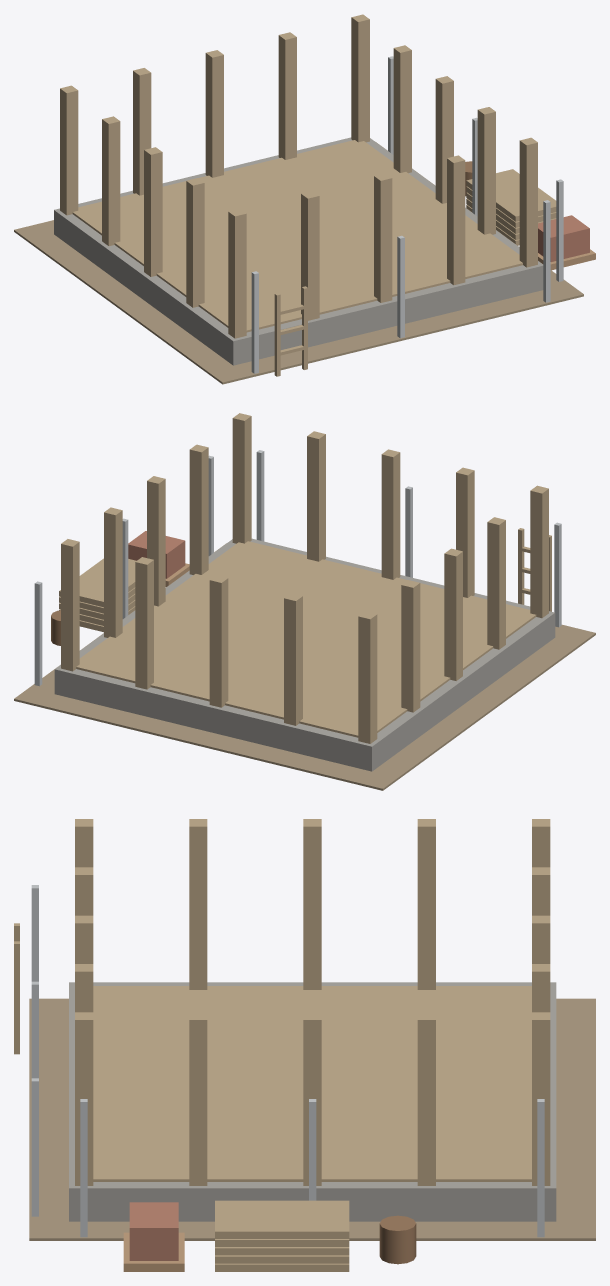
Rendered from cow_shed_site_3.glb.
The picture shows the model from 3 angles, top to bottom: view 1: azimuth 30°, elevation 25°; view 2: azimuth 150°, elevation 25°; view 3: azimuth 270°, elevation 25°; orthographic projection. The views are drawn at different scales.
Visible parts, largest first — view 1: body; view 2: body; view 3: body.
Part boxes in pixels (left/top/right/bottom): body: left=14, top=14, right=595, bottom=384; body: left=14, top=413, right=595, bottom=790; body: left=14, top=819, right=595, bottom=1271.
Bounding box in the file's own units: 2.1 × 0.731 × 1.91.
